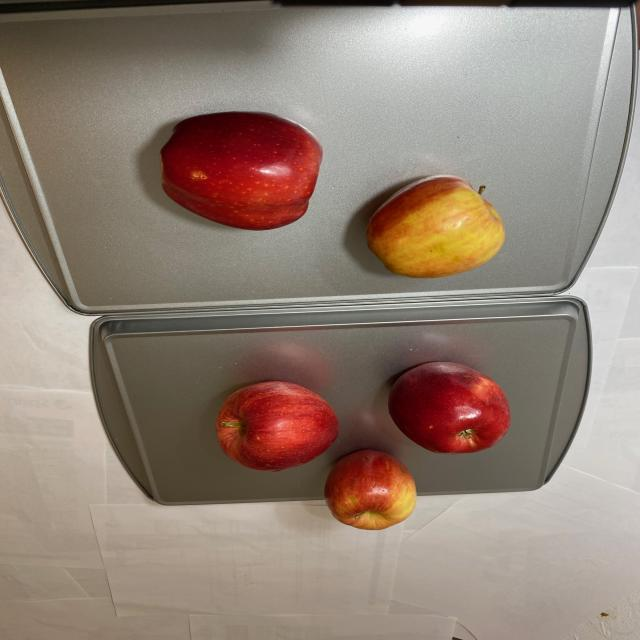apple: (154, 112, 512, 280), (208, 357, 514, 531)
